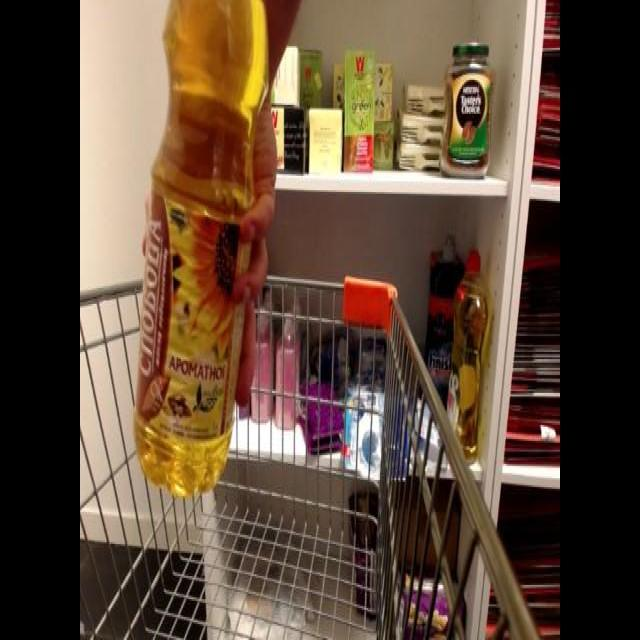Oil: (130, 1, 274, 506)
